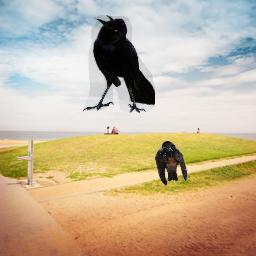Crow: (83, 15, 155, 113)
Swallow: (155, 141, 188, 186)
